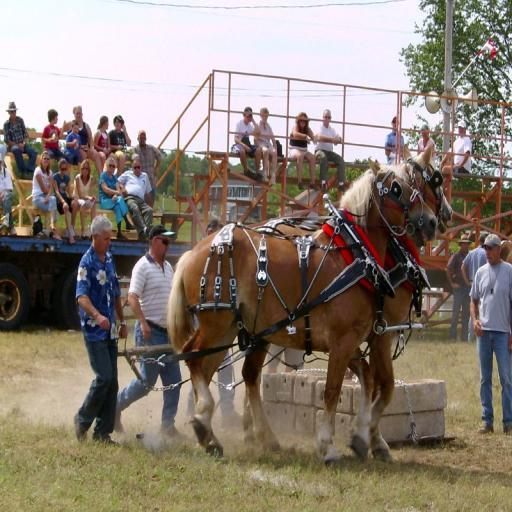Horse: (164, 156, 438, 463), (239, 138, 455, 464)
